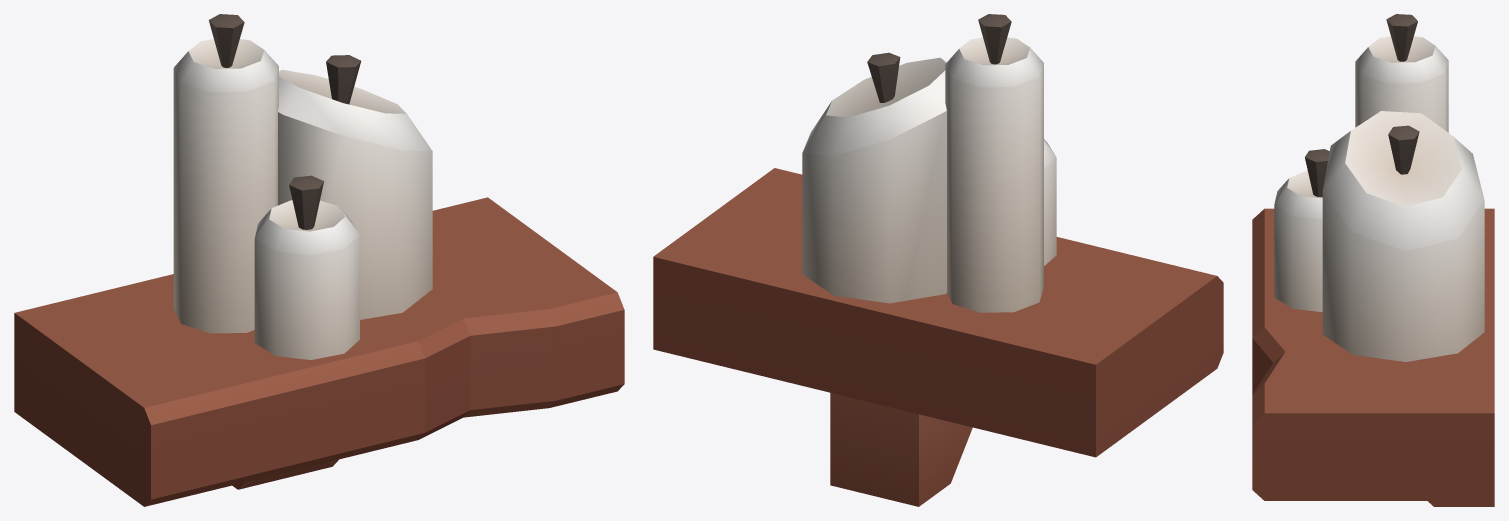
File: shelf_small_candles.gltf
3 renders of one model, left to right at view 1: azimuth 30°, elevation 25°; view 2: azimuth 150°, elevation 25°; view 3: azimuth 270°, elevation 25°, orthographic. The views are drawn at different scales.
Parts seen in each view (by area): view 1: shelf_small_candles; view 2: shelf_small_candles; view 3: shelf_small_candles.
Boxes of the visible parts, x1,y1,x2,y2 form: shelf_small_candles: [14, 14, 624, 506]; shelf_small_candles: [653, 14, 1223, 506]; shelf_small_candles: [1252, 14, 1494, 506].
Bounding box in the file's own units: 1 × 0.9942 × 0.5.
Materials: 1 (1 with a texture image).
